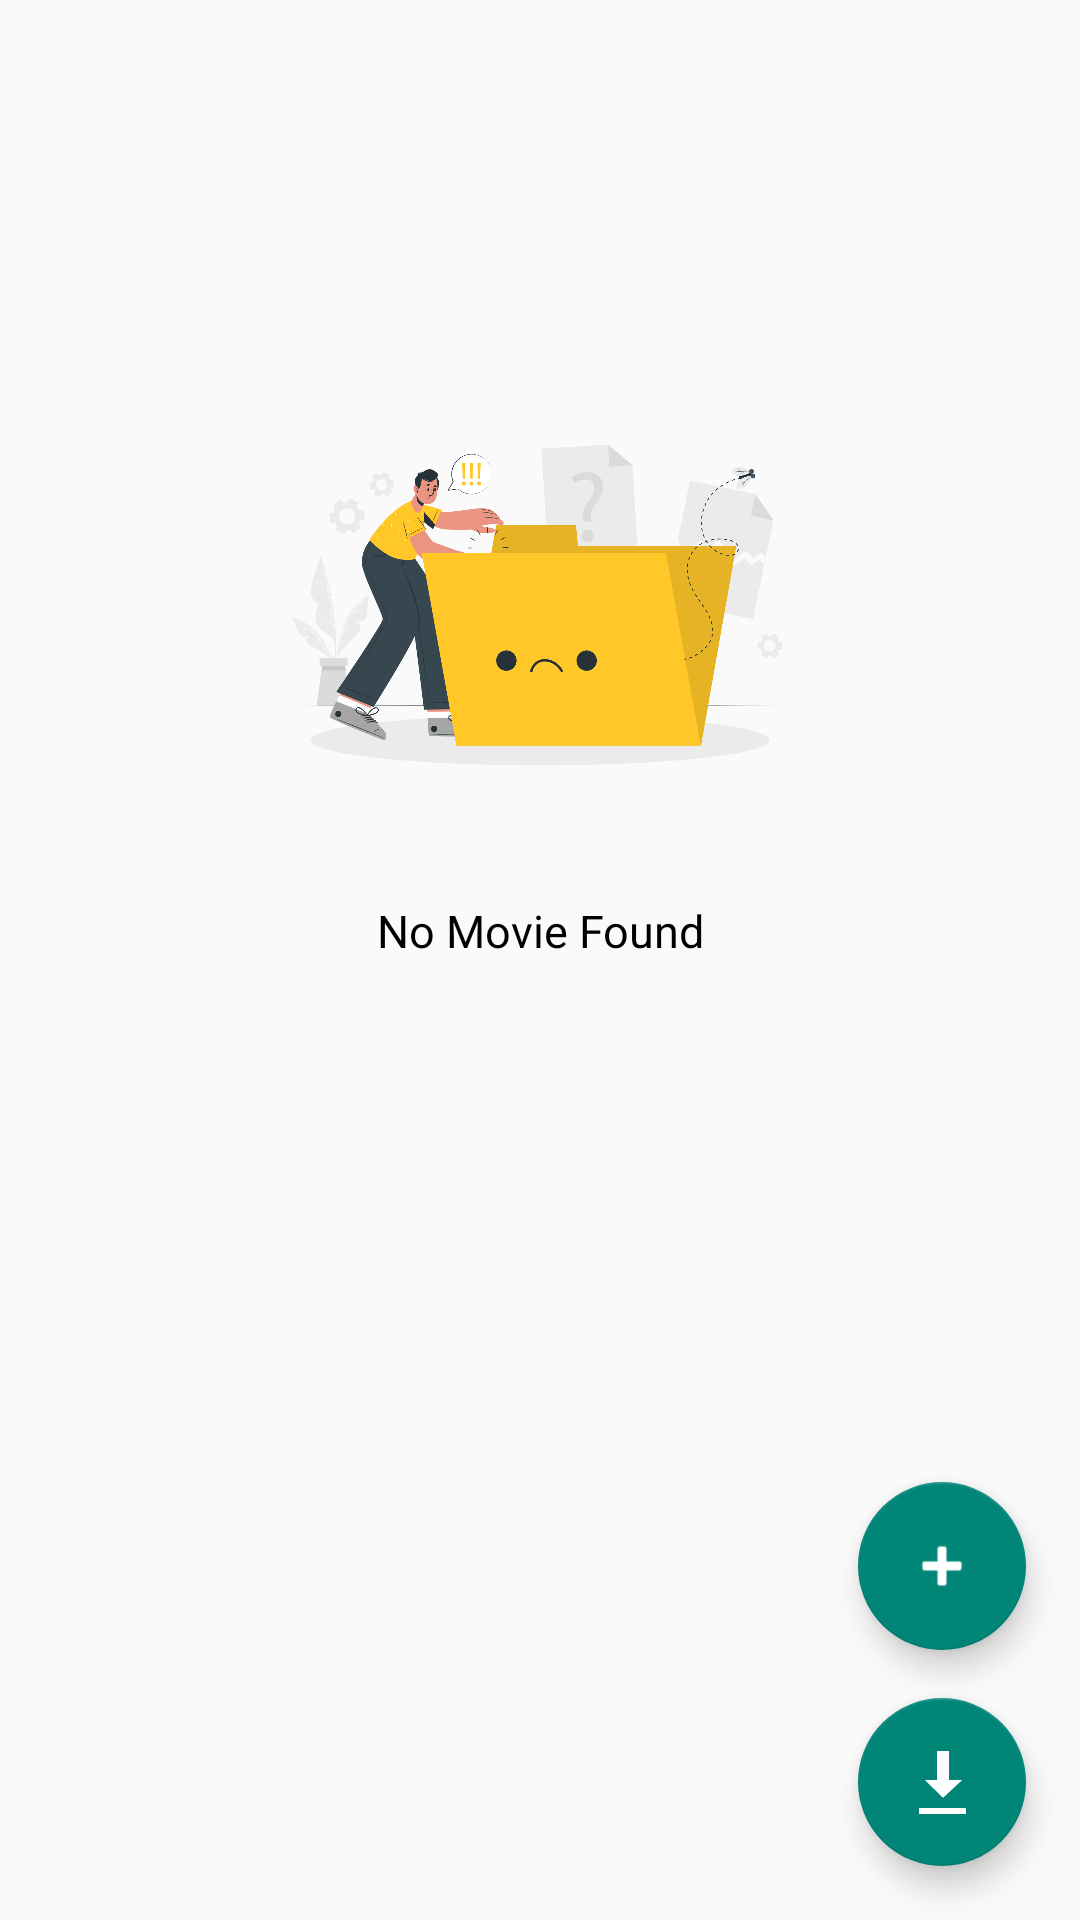

Icons on this 1080 × 1920 Android screen, each with its box as [x1,y1,x2,y2]:
add: [858,1482,1026,1650]
download: [858,1698,1026,1866]
